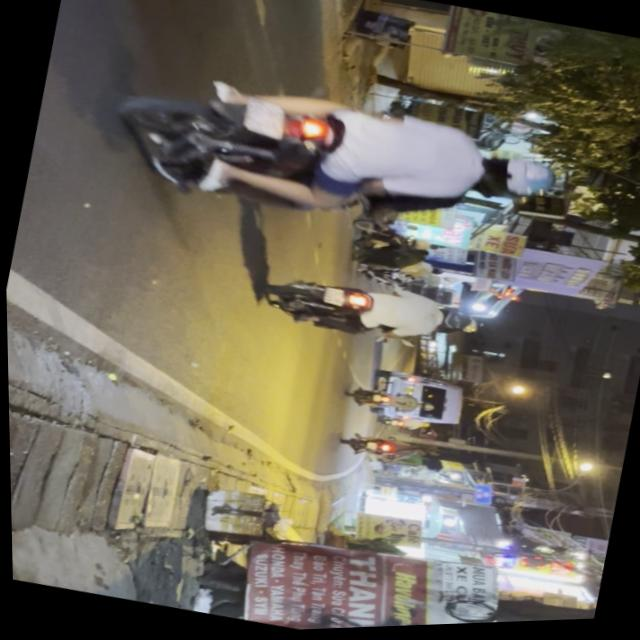helmet: (475, 149, 557, 209), (438, 308, 478, 336)
licenseplate: (102, 44, 567, 274), (255, 260, 481, 364)
nohelmet: (242, 97, 288, 141), (321, 287, 344, 308)
